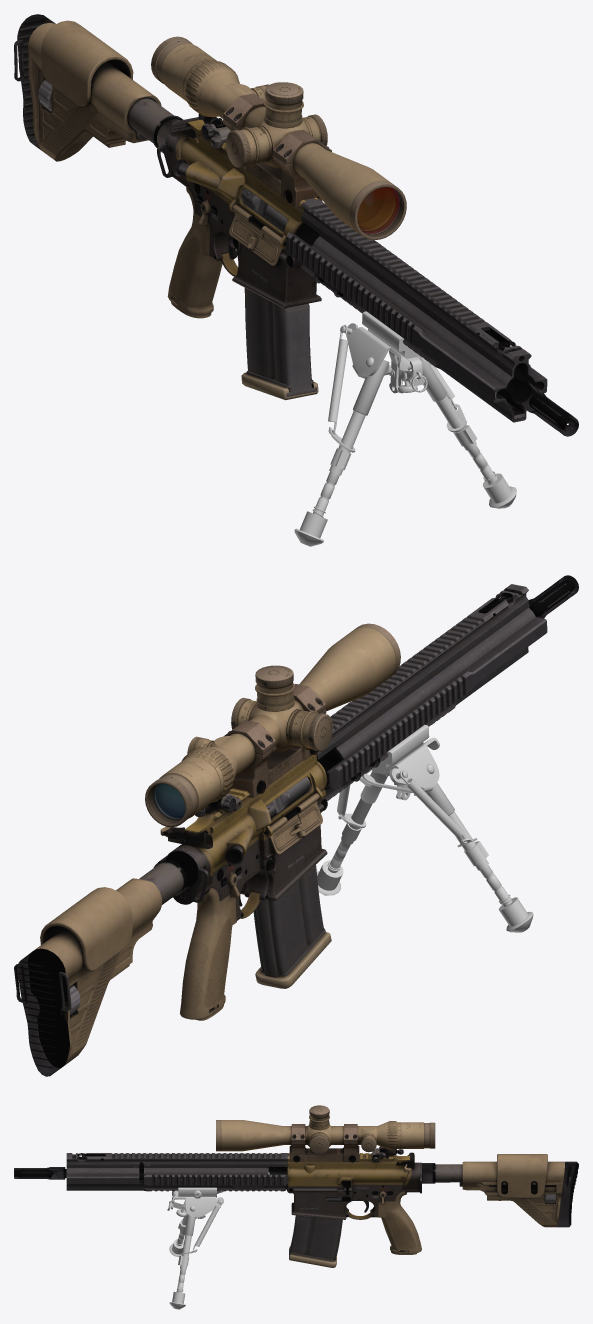
3 views of the same model, one above another, from view 1: azimuth 30°, elevation 25°; view 2: azimuth 150°, elevation 25°; view 3: azimuth 270°, elevation 25° (orthographic). The views are drawn at different scales.
Parts seen in each view (by area): view 1: Body_0, Scope_3, Bipod_4, Mag_1, LenseF_5, Reciever_2; view 2: Body_0, Scope_3, Bipod_4, Mag_1, LenseR_6, Reciever_2; view 3: Body_0, Scope_3, Bipod_4, Mag_1.
Part boxes in pixels (left/top/right/bottom): Body_0: left=14, top=14, right=578, bottom=436; Scope_3: left=151, top=36, right=406, bottom=239; Bipod_4: left=294, top=311, right=516, bottom=546; Mag_1: left=241, top=288, right=318, bottom=400; LenseF_5: left=357, top=187, right=398, bottom=233; Reciever_2: left=241, top=188, right=287, bottom=232; Body_0: left=14, top=575, right=578, bottom=1076; Scope_3: left=145, top=623, right=400, bottom=827; Bipod_4: left=316, top=725, right=533, bottom=932; Mag_1: left=253, top=865, right=331, bottom=988; LenseR_6: left=153, top=784, right=184, bottom=819; Reciever_2: left=266, top=776, right=309, bottom=818; Body_0: left=14, top=1146, right=578, bottom=1254; Scope_3: left=216, top=1105, right=435, bottom=1162; Bipod_4: left=167, top=1187, right=223, bottom=1309; Mag_1: left=289, top=1196, right=342, bottom=1267.
Bounding box in the file's own units: 0.2275 × 0.3393 × 0.9727.
